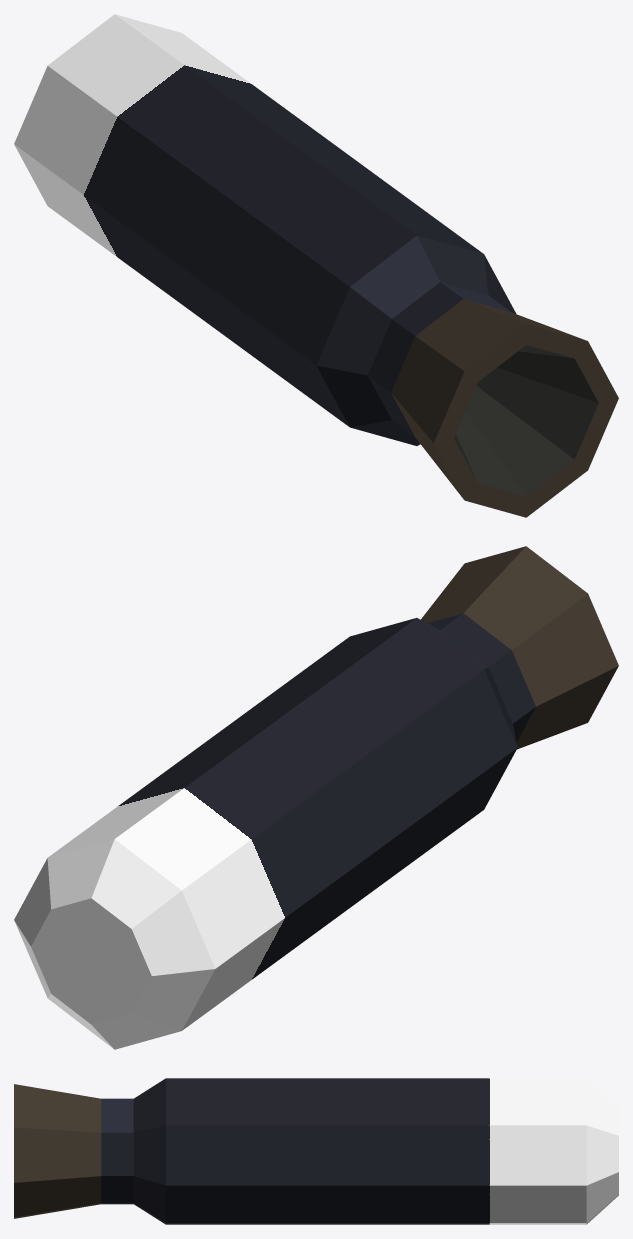
File: missile.gltf
The picture shows the model from 3 angles, top to bottom: view 1: azimuth 30°, elevation 25°; view 2: azimuth 150°, elevation 25°; view 3: azimuth 270°, elevation 25°; orthographic projection. The views are drawn at different scales.
Parts seen in each view (by area): view 1: cuboid; view 2: cuboid; view 3: cuboid.
Boxes of the visible parts, box(x1,y1,x2,y2) form: cuboid: box(14, 14, 618, 517); cuboid: box(14, 546, 618, 1049); cuboid: box(14, 1078, 618, 1224).
Bounding box in the file's own units: 0.3125 × 0.3125 × 1.17.
Materials: 1 (1 with a texture image).
